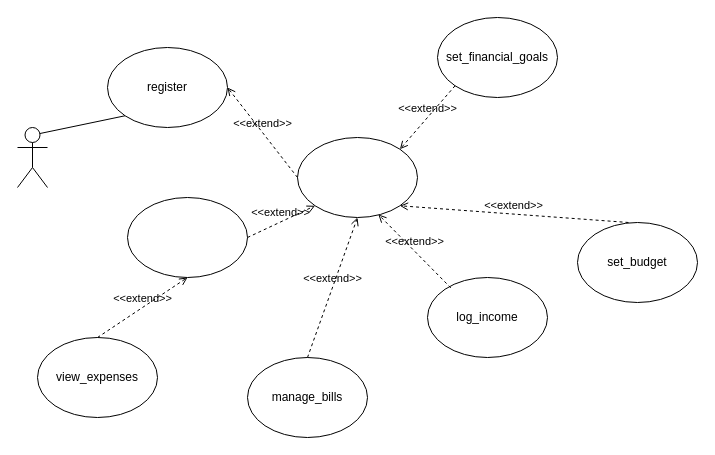
The diagram is 715 pixels wide and 455 high, and some of its shapes have lost their labels. The box of each missing label's shape, as (x1, y1, x2, y2) in pixels:
log_expense: (126, 196, 248, 278)
login: (296, 136, 418, 218)
user: (16, 126, 48, 188)
